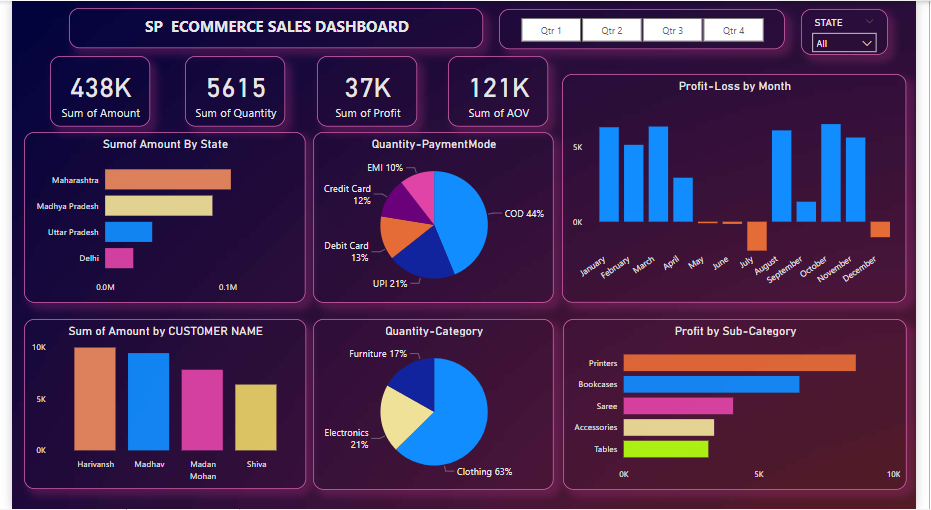

The dashboard page shown, as its layout file describes it:
{"tool":"powerbi","page":{"name":" DASHBOARD","canvas":[1280,720],"ordinal":0},"visuals":[{"type":"textbox","box":[80.8,10.5,587.4,57.1],"z":0},{"type":"columnChart","title":" Profit-Loss by Month","fields":{"Y":["Sum(Details.Profit)"],"Category":["Orders.ORDER DATE.Variation.Date Hierarchy.Month"]},"box":[780.1,104.1,488.3,323.9],"z":1000},{"type":"barChart","title":" Profit by Sub-Category","fields":{"Y":["Sum(Details.Profit)"],"Category":["Details.Sub-Category"]},"box":[781,450.3,487.3,242.2],"z":2000},{"type":"pieChart","title":" Quantity-Category","fields":{"Category":["Details.Category"],"Y":["Sum(Details.Quantity)"]},"box":[426,450.3,341.4,242.2],"z":3000},{"type":"pieChart","title":" Quantity-PaymentMode","fields":{"Category":["Details.PaymentMode"],"Y":["Sum(Details.Quantity)"]},"box":[426,185.8,341.4,242.2],"z":4000},{"type":"card","fields":{"Values":["Sum(Details.Amount)"]},"box":[53.5,77.8,142,100.2],"z":5000},{"type":"card","fields":{"Values":["Sum(Details.Quantity)"]},"box":[245.1,77.8,142,100.2],"z":6000},{"type":"card","fields":{"Values":["Sum(Details.Profit)"]},"box":[432.8,77.8,142,100.2],"z":7000},{"type":"card","fields":{"Values":["Sum(Details.AVERAGE ORDER VALUE)"]},"box":[618.6,77.8,142,100.2],"z":8000},{"type":"barChart","title":" Sumof Amount By State","fields":{"Y":["Sum(Details.Amount)"],"Category":["Orders.STATE"]},"box":[16.5,185.8,398.8,242.2],"z":9000},{"type":"columnChart","fields":{"Category":["Orders.CUSTOMER NAME"],"Y":["Sum(Details.Amount)"]},"box":[16.5,451.3,399.8,241.2],"z":10000},{"type":"slicer","fields":{"Values":["Orders.ORDER DATE.Variation.Date Hierarchy.Quarter"]},"box":[689.6,10.7,404.6,57.4],"z":11000},{"type":"slicer","fields":{"Values":["Orders.STATE"]},"box":[1117.6,10.7,122.6,65.2],"z":12000}]}

Visuals, with their boxes in screenshot pixels (x1, y1, x2, y2), scaled from the page's 1280x720 canvas onto the 931x510 screenshot:
textbox: 59 7 486 48
" Profit-Loss by Month" columnChart: 567 74 923 303
" Profit by Sub-Category" barChart: 568 319 922 491
" Quantity-Category" pieChart: 310 319 558 491
" Quantity-PaymentMode" pieChart: 310 132 558 303
card - Sum(Details.Amount): 39 55 142 126
card - Sum(Details.Quantity): 178 55 282 126
card - Sum(Details.Profit): 315 55 418 126
card - Sum(Details.AVERAGE ORDER VALUE): 450 55 553 126
" Sumof Amount By State" barChart: 12 132 302 303
columnChart - Orders.CUSTOMER NAME x Sum(Details.Amount): 12 320 303 491
slicer - Orders.ORDER DATE.Variation.Date Hierarchy.Quarter: 502 8 796 48
slicer - Orders.STATE: 813 8 902 54
